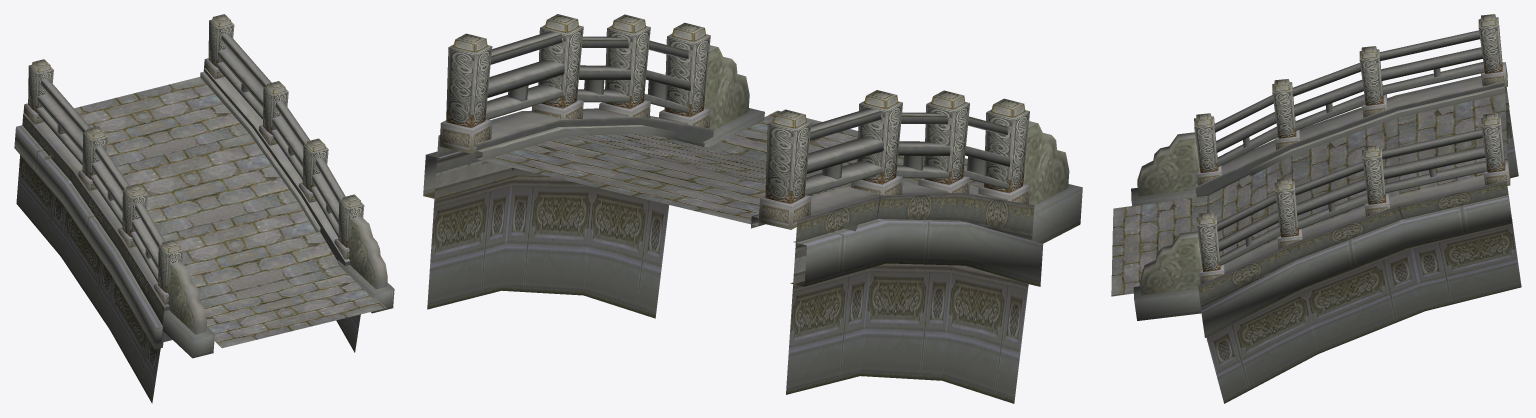
The model's file is S2_Build_XSC083.FBX.
3 renders of one model, left to right at view 1: azimuth 30°, elevation 25°; view 2: azimuth 150°, elevation 25°; view 3: azimuth 270°, elevation 25°, orthographic. The views are drawn at different scales.
Parts seen in each view (by area): view 1: S2_Build_XSC083; view 2: S2_Build_XSC083; view 3: S2_Build_XSC083.
Part boxes in pixels (bbox=[...]): S2_Build_XSC083: bbox=[14, 14, 394, 403]; S2_Build_XSC083: bbox=[423, 14, 1082, 403]; S2_Build_XSC083: bbox=[1111, 14, 1521, 403].
Size of the model in its own units: 966 by 1055 by 1398.
